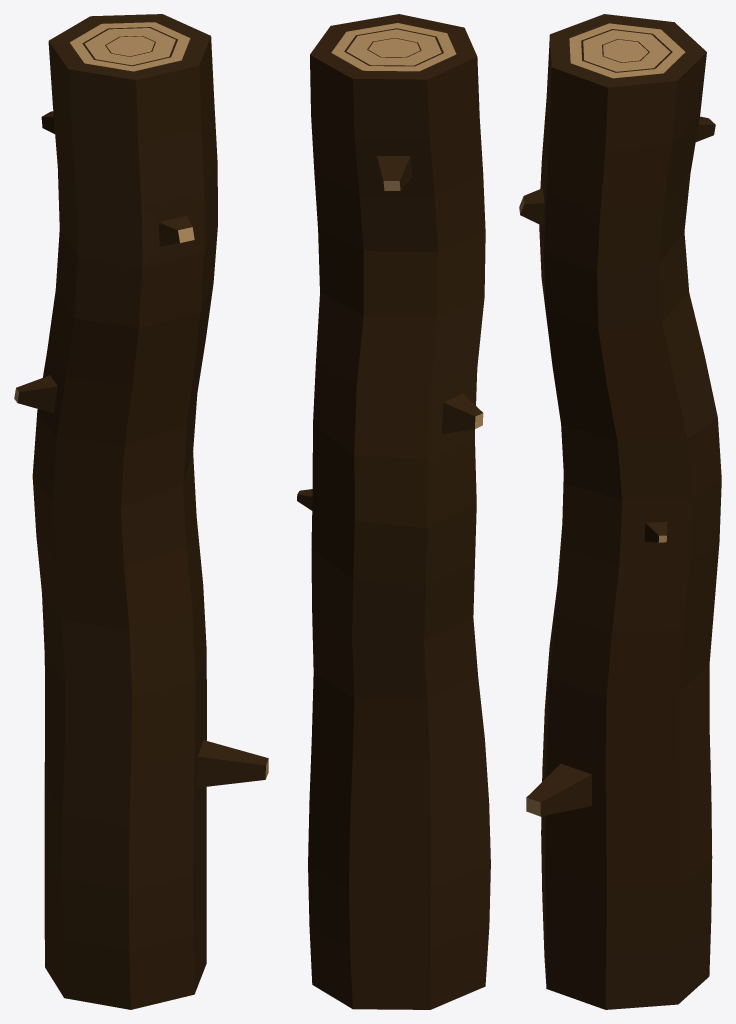
File: wood_item_model.fbx
3 renders of one model, left to right at view 1: azimuth 30°, elevation 25°; view 2: azimuth 150°, elevation 25°; view 3: azimuth 270°, elevation 25°, orthographic.
Parts seen in each view (by area): view 1: Cylinder; view 2: Cylinder; view 3: Cylinder.
Part boxes in pixels (left/top/right/bottom): Cylinder: left=14, top=14, right=268, bottom=1009; Cylinder: left=297, top=14, right=490, bottom=1009; Cylinder: left=519, top=14, right=721, bottom=1009.
Bounding box in the file's own units: 40.94 × 185 × 36.56.
